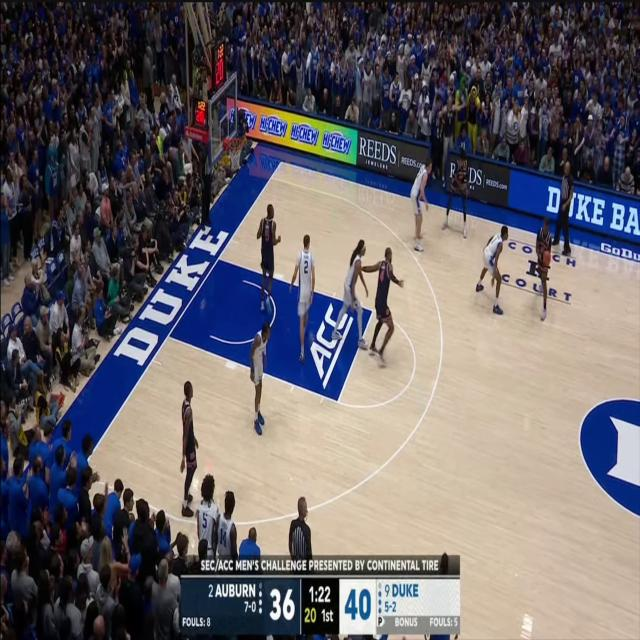basketball: (534, 228, 560, 284)
